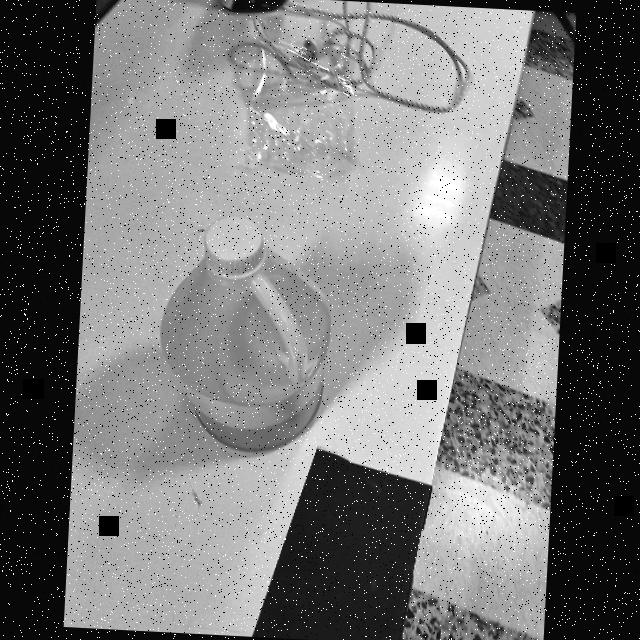chemical_plastic_gallon: (148, 212, 340, 458)
